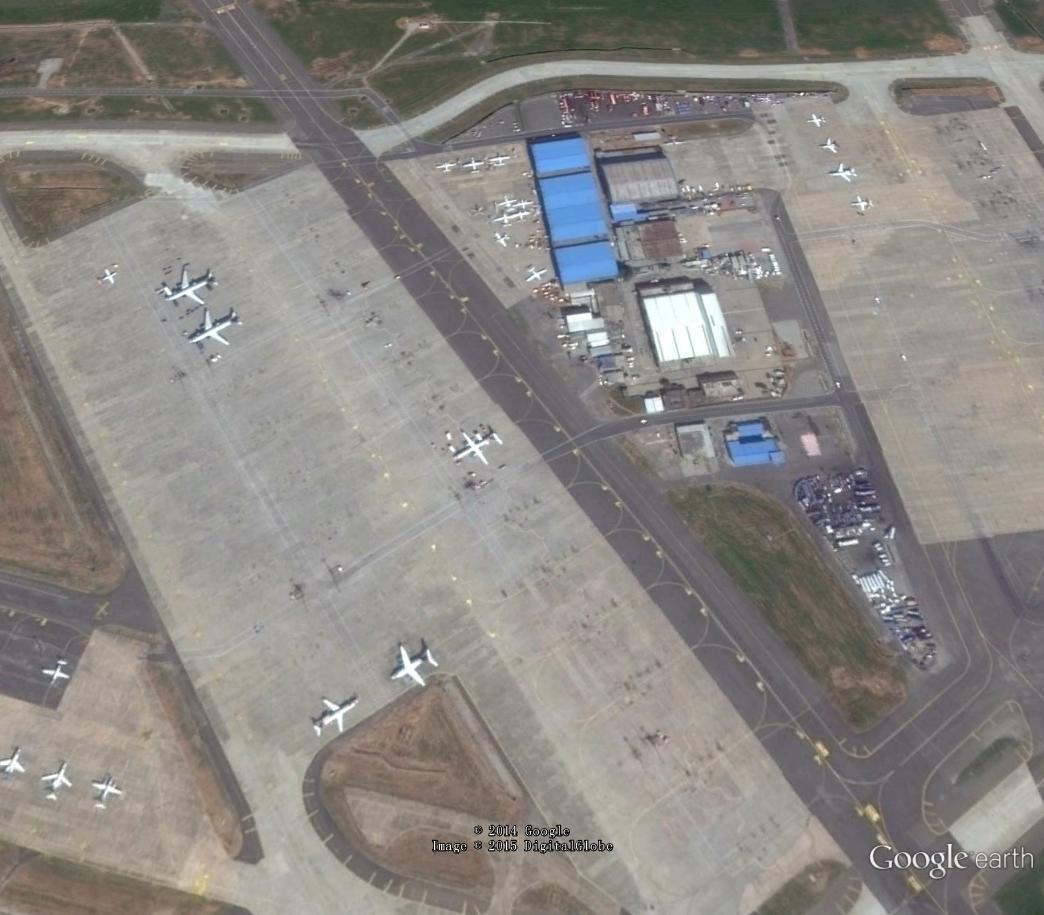aircraft: (387, 638, 443, 693), (160, 261, 221, 308), (307, 692, 363, 742), (187, 306, 246, 350), (451, 427, 509, 470), (39, 757, 76, 806), (87, 774, 126, 815), (40, 657, 76, 690), (828, 160, 863, 187), (0, 747, 29, 777), (848, 190, 878, 218), (95, 264, 120, 291), (460, 153, 487, 178), (524, 261, 550, 286), (817, 134, 845, 157), (495, 191, 518, 216), (487, 150, 514, 171), (806, 111, 830, 133), (492, 229, 514, 251), (433, 159, 459, 176), (511, 195, 536, 212), (494, 211, 518, 227), (513, 210, 532, 223)
